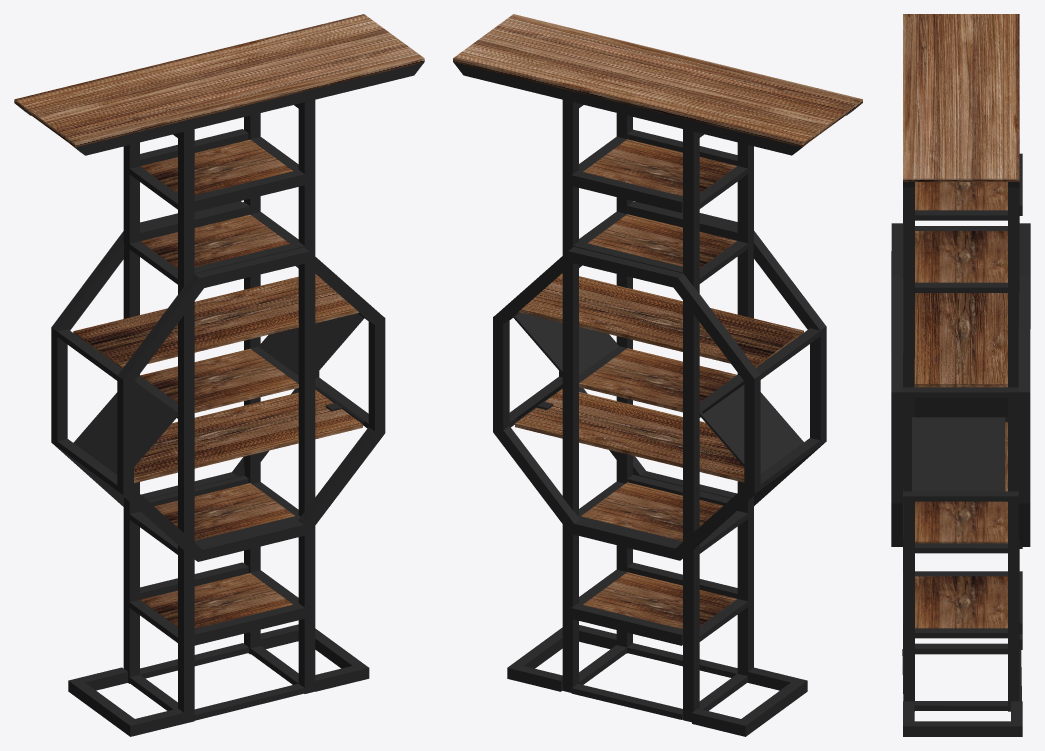
File: etagere_4.glb
3 views of the same model, side by side, from view 1: azimuth 30°, elevation 25°; view 2: azimuth 150°, elevation 25°; view 3: azimuth 270°, elevation 25° (orthographic). The views are drawn at different scales.
Parts seen in each view (by area): view 1: Cube.096, Cube.153, Cube.136, Cube.157, Cube.135, Cube.155, Cube.146, Cube.133, Cube.075, Cube.141, Cube.140, Cube.151 (+36 smaller); view 2: Cube.096, Cube.136, Cube.155, Cube.154, Cube.135, Cube.157, Cube.146, Cube.133, Cube.075, Cube.140, Cube.145, Cube.151 (+35 smaller); view 3: Cube.096, Cube.136, Cube.149, Cube.154, Cube.153, Cube.075, Cube.150, Cube.140, Cube.133, Cube.143, Cube.058, Cube.083 (+19 smaller).
Part boxes in pixels (x1,y1,x2,y2): Cube.096: [14, 14, 424, 147]; Cube.153: [298, 100, 315, 693]; Cube.136: [73, 274, 358, 368]; Cube.157: [178, 129, 194, 723]; Cube.135: [134, 389, 362, 483]; Cube.155: [123, 142, 139, 683]; Cube.146: [140, 348, 298, 412]; Cube.133: [140, 139, 293, 194]; Cube.075: [140, 573, 292, 628]; Cube.141: [72, 62, 424, 155]; Cube.140: [141, 483, 294, 540]; Cube.151: [73, 381, 177, 474]; Cube.096: [453, 14, 862, 146]; Cube.136: [518, 273, 803, 367]; Cube.155: [683, 129, 699, 722]; Cube.154: [562, 100, 578, 692]; Cube.135: [515, 389, 744, 482]; Cube.157: [737, 142, 753, 682]; Cube.146: [579, 348, 736, 412]; Cube.133: [583, 139, 736, 196]; Cube.075: [583, 572, 736, 629]; Cube.140: [581, 482, 736, 541]; Cube.145: [453, 62, 804, 155]; Cube.151: [699, 381, 803, 473]; Cube.096: [903, 14, 1019, 181]; Cube.136: [914, 293, 1007, 387]; Cube.149: [912, 417, 1005, 491]; Cube.154: [1008, 187, 1019, 711]; Cube.153: [903, 182, 914, 711]; Cube.075: [915, 576, 1007, 628]; Cube.150: [915, 231, 1007, 282]; Cube.140: [915, 501, 1007, 543]; Cube.133: [915, 182, 1007, 210]; Cube.143: [914, 397, 1007, 417]; Cube.058: [903, 721, 1022, 736]; Cube.083: [891, 275, 903, 391].
Bounding box in the file's own units: 1 × 1.66 × 0.358.
72 materials, 8 textured.
